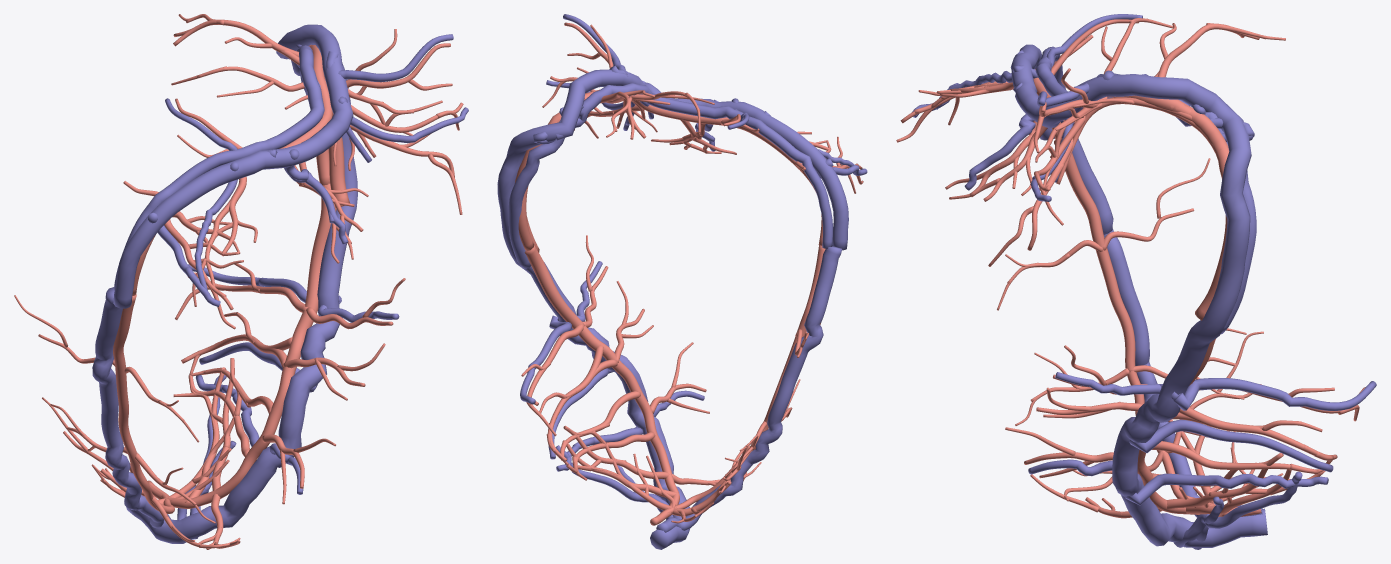
File: vessels_4.glb
3 renders of one model, left to right at view 1: azimuth 30°, elevation 25°; view 2: azimuth 150°, elevation 25°; view 3: azimuth 270°, elevation 25°, orthographic. The views are drawn at different scales.
Parts seen in each view (by area): view 1: Renderer Node; view 2: Renderer Node; view 3: Renderer Node.
Boxes of the visible parts, x1,y1,x2,y2 form: Renderer Node: [14, 14, 468, 549]; Renderer Node: [497, 14, 867, 549]; Renderer Node: [896, 14, 1376, 549].
Size of the model in its own units: 95.45 by 124 by 95.48.
